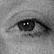eye: (19, 21, 35, 31)
